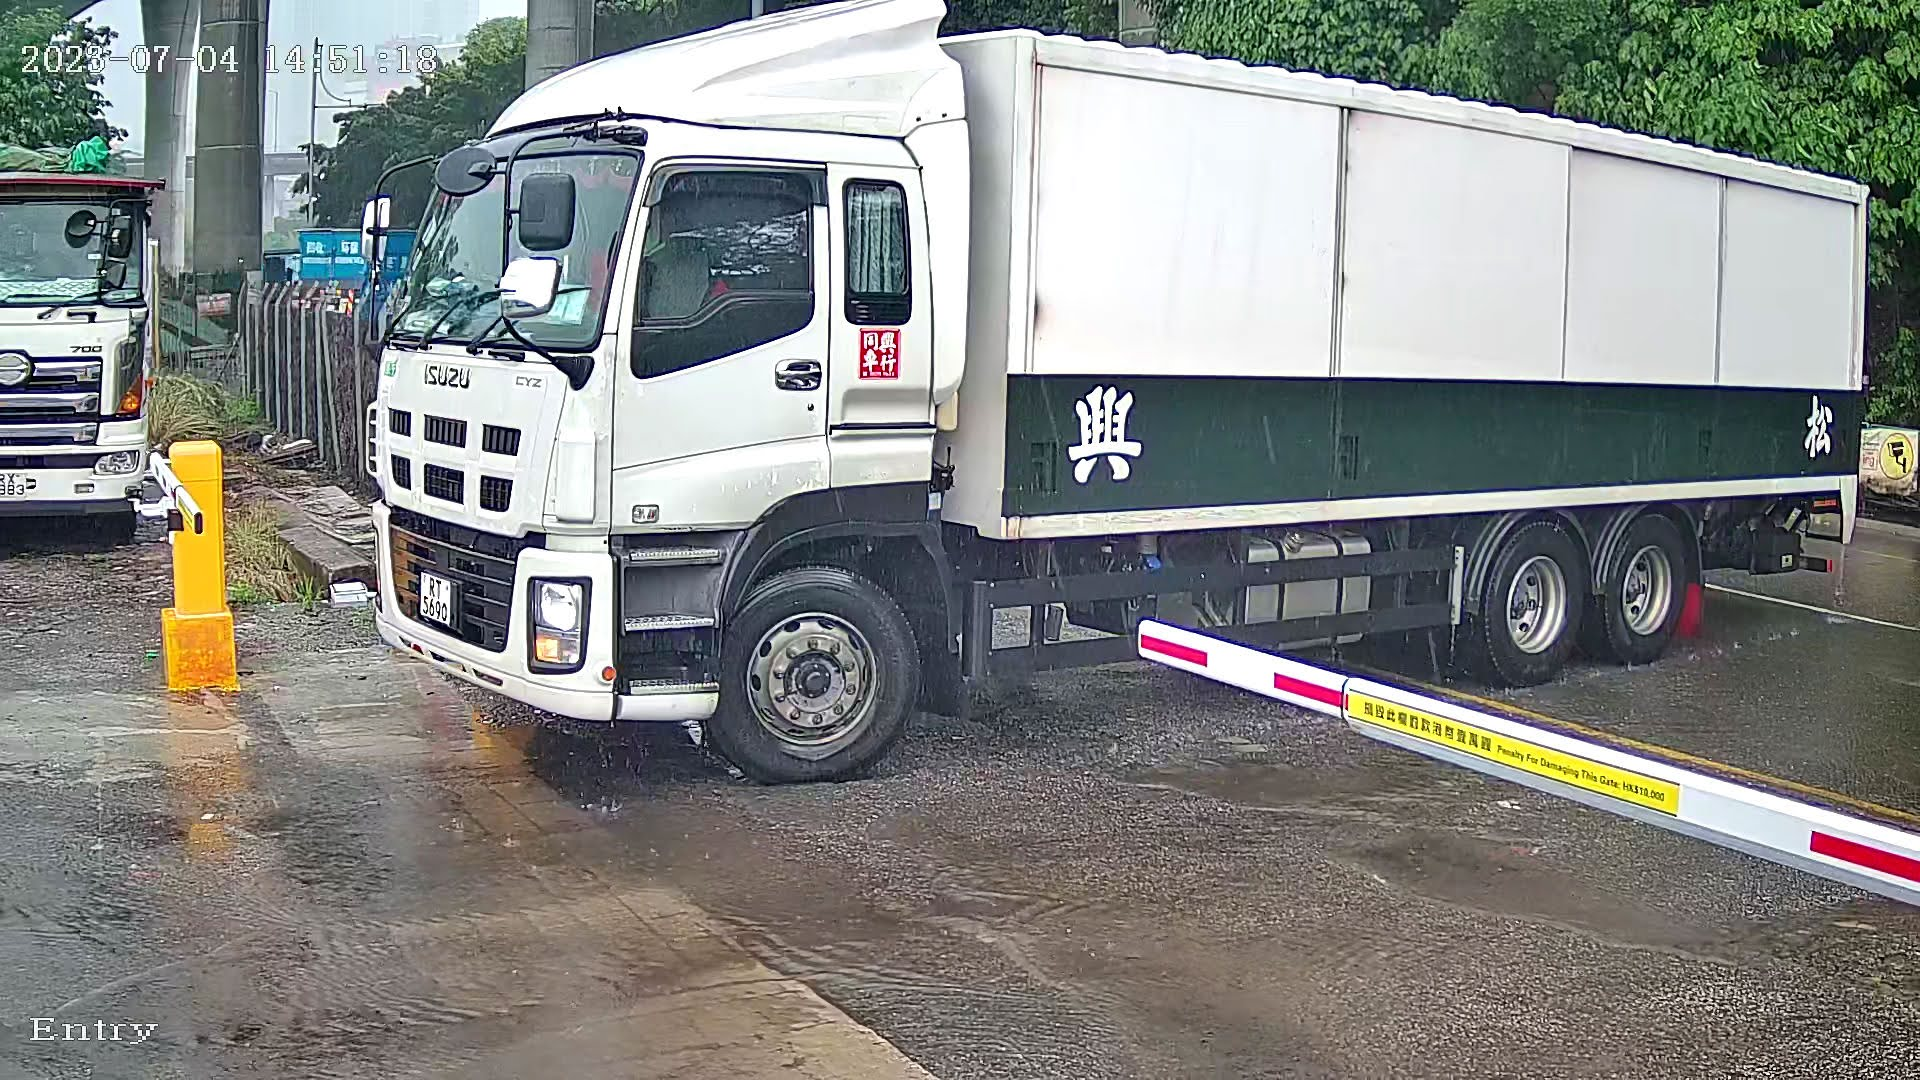truck: (347, 1, 1880, 781)
